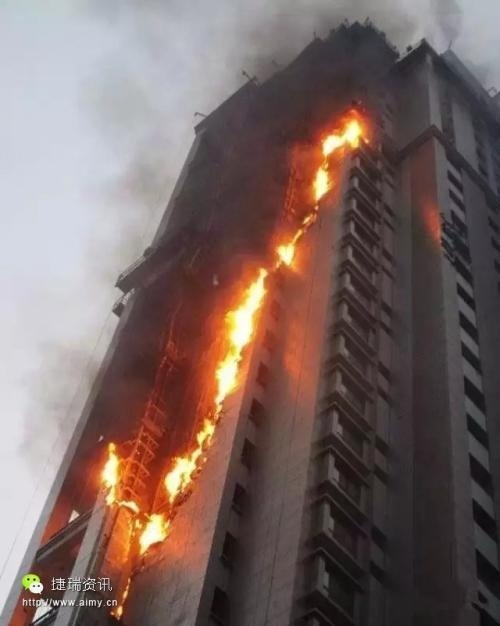fire: (274, 112, 369, 270), (96, 442, 169, 552)
